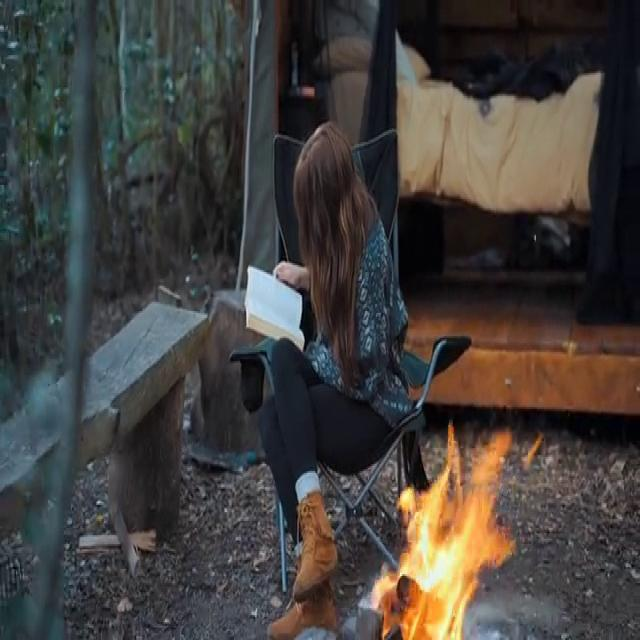Fire: (372, 424, 524, 631)
